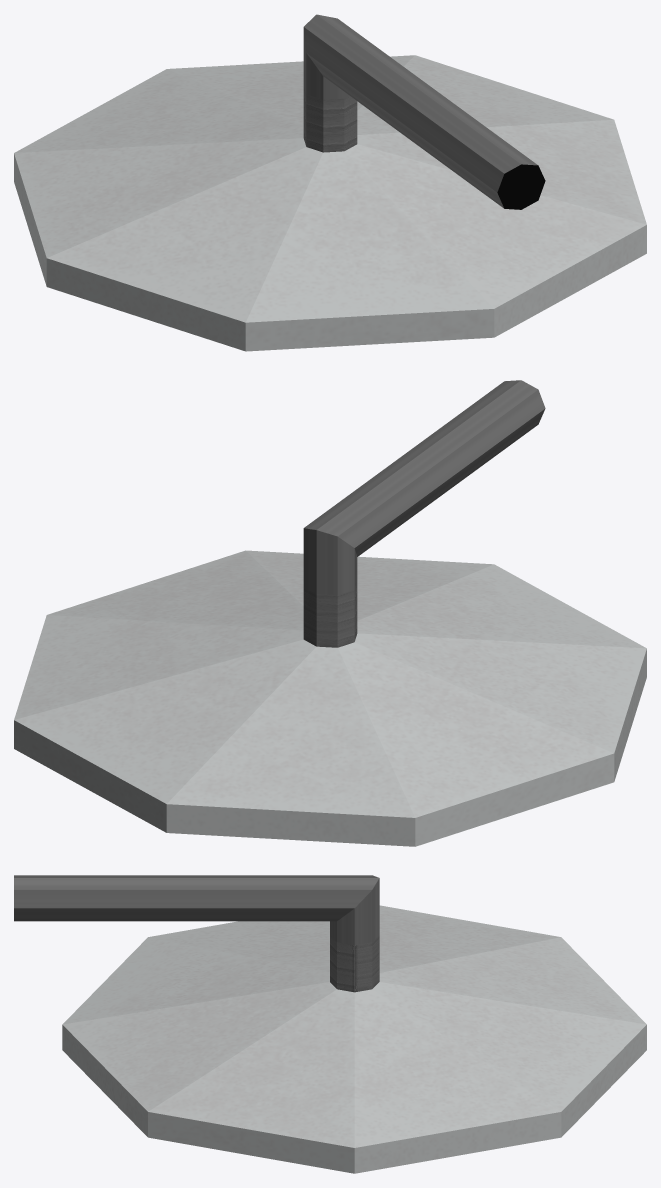
Rendered from circle_light_wall.fbx.
3 views of the same model, one above another, from view 1: azimuth 30°, elevation 25°; view 2: azimuth 150°, elevation 25°; view 3: azimuth 270°, elevation 25° (orthographic). The views are drawn at different scales.
Parts seen in each view (by area): view 1: circle light wall; view 2: circle light wall; view 3: circle light wall.
Part boxes in pixels (x1,y1,x2,y2): circle light wall: (14,14,646,351); circle light wall: (14,380,646,846); circle light wall: (14,875,646,1173).
Size of the model in its own units: 139 by 55.47 by 150.
